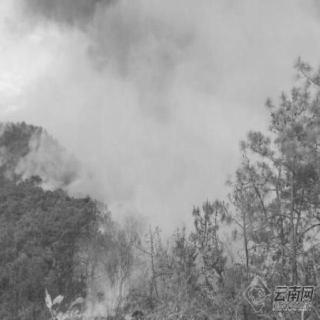Fire: (110, 250, 136, 303), (51, 304, 83, 318), (120, 308, 136, 318), (230, 290, 242, 302)
Smoke: (198, 9, 310, 94)
